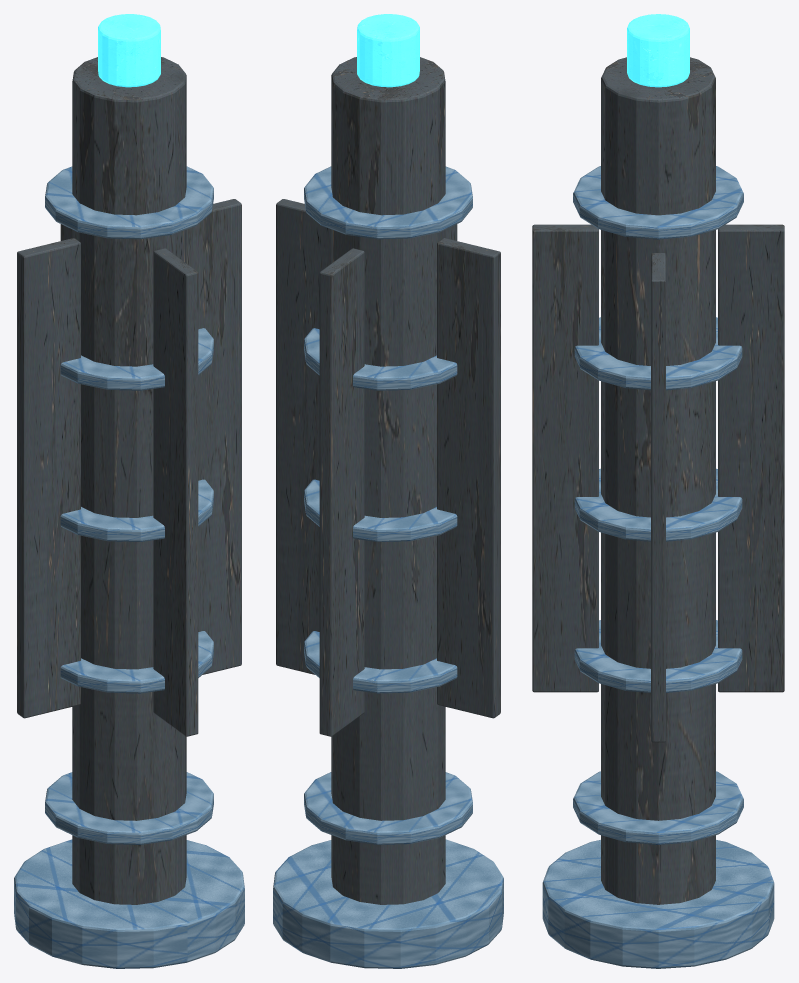
The model's file is cryo_pylon.glb.
3 views of the same model, side by side, from view 1: azimuth 30°, elevation 25°; view 2: azimuth 150°, elevation 25°; view 3: azimuth 270°, elevation 25° (orthographic).
Parts seen in each view (by area): view 1: PylonShaft, PylonFin_4.71238898038469, PylonFin_0, PylonBase, PylonFin_1.5707963267948966, PylonRing_1.4, PylonRing_8.6, PylonBeacon, PylonRing_6.8, PylonRing_5.0, PylonRing_3.2; view 2: PylonShaft, PylonFin_4.71238898038469, PylonFin_3.141592653589793, PylonBase, PylonFin_1.5707963267948966, PylonRing_1.4, PylonRing_8.6, PylonBeacon, PylonRing_6.8, PylonRing_5.0, PylonRing_3.2; view 3: PylonShaft, PylonFin_0, PylonFin_3.141592653589793, PylonBase, PylonFin_1.5707963267948966, PylonRing_1.4, PylonRing_8.6, PylonRing_6.8, PylonRing_3.2, PylonRing_5.0, PylonBeacon.
Part boxes in pixels (x1,y1,x2,y2): PylonShaft: (72,57,186,904); PylonFin_4.71238898038469: (17,238,80,718); PylonFin_0: (153,248,198,736); PylonBase: (14,839,244,968); PylonFin_1.5707963267948966: (186,199,241,674); PylonRing_1.4: (45,772,213,844); PylonRing_8.6: (45,166,213,239); PylonBeacon: (98,14,160,87); PylonRing_6.8: (60,328,213,390); PylonRing_5.0: (60,479,213,541); PylonRing_3.2: (60,631,213,693); PylonShaft: (331,57,445,904); PylonFin_4.71238898038469: (437,238,500,718); PylonFin_3.141592653589793: (319,248,364,736); PylonBase: (273,839,503,968); PylonFin_1.5707963267948966: (276,199,331,674); PylonRing_1.4: (304,772,472,844); PylonRing_8.6: (304,166,472,239); PylonBeacon: (357,14,419,87); PylonRing_6.8: (304,328,457,390); PylonRing_5.0: (304,479,457,541); PylonRing_3.2: (304,631,457,693); PylonShaft: (601,57,715,904); PylonFin_0: (532,224,598,692); PylonFin_3.141592653589793: (718,224,784,692); PylonBase: (542,840,774,968); PylonFin_1.5707963267948966: (651,253,665,742); PylonRing_1.4: (573,771,743,844); PylonRing_8.6: (573,166,743,239); PylonRing_6.8: (574,317,742,390); PylonRing_3.2: (574,620,742,692); PylonRing_5.0: (574,468,742,541); PylonBeacon: (627,14,689,87).
Size of the model in its own units: 2.72 by 10.64 by 2.72.
4 materials, 4 textured.
